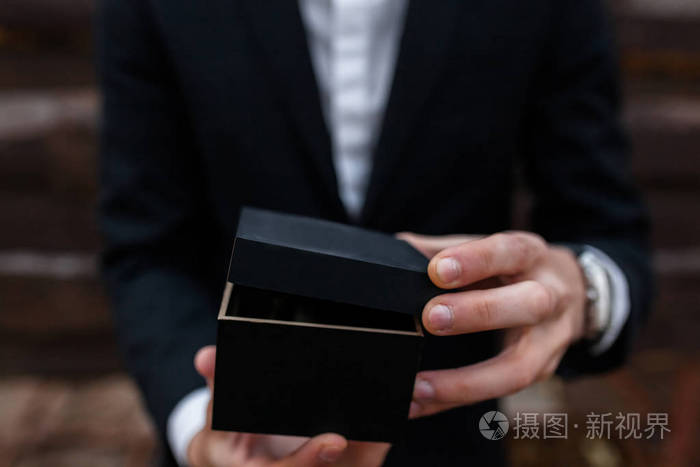no-phone: (206, 198, 586, 438)
